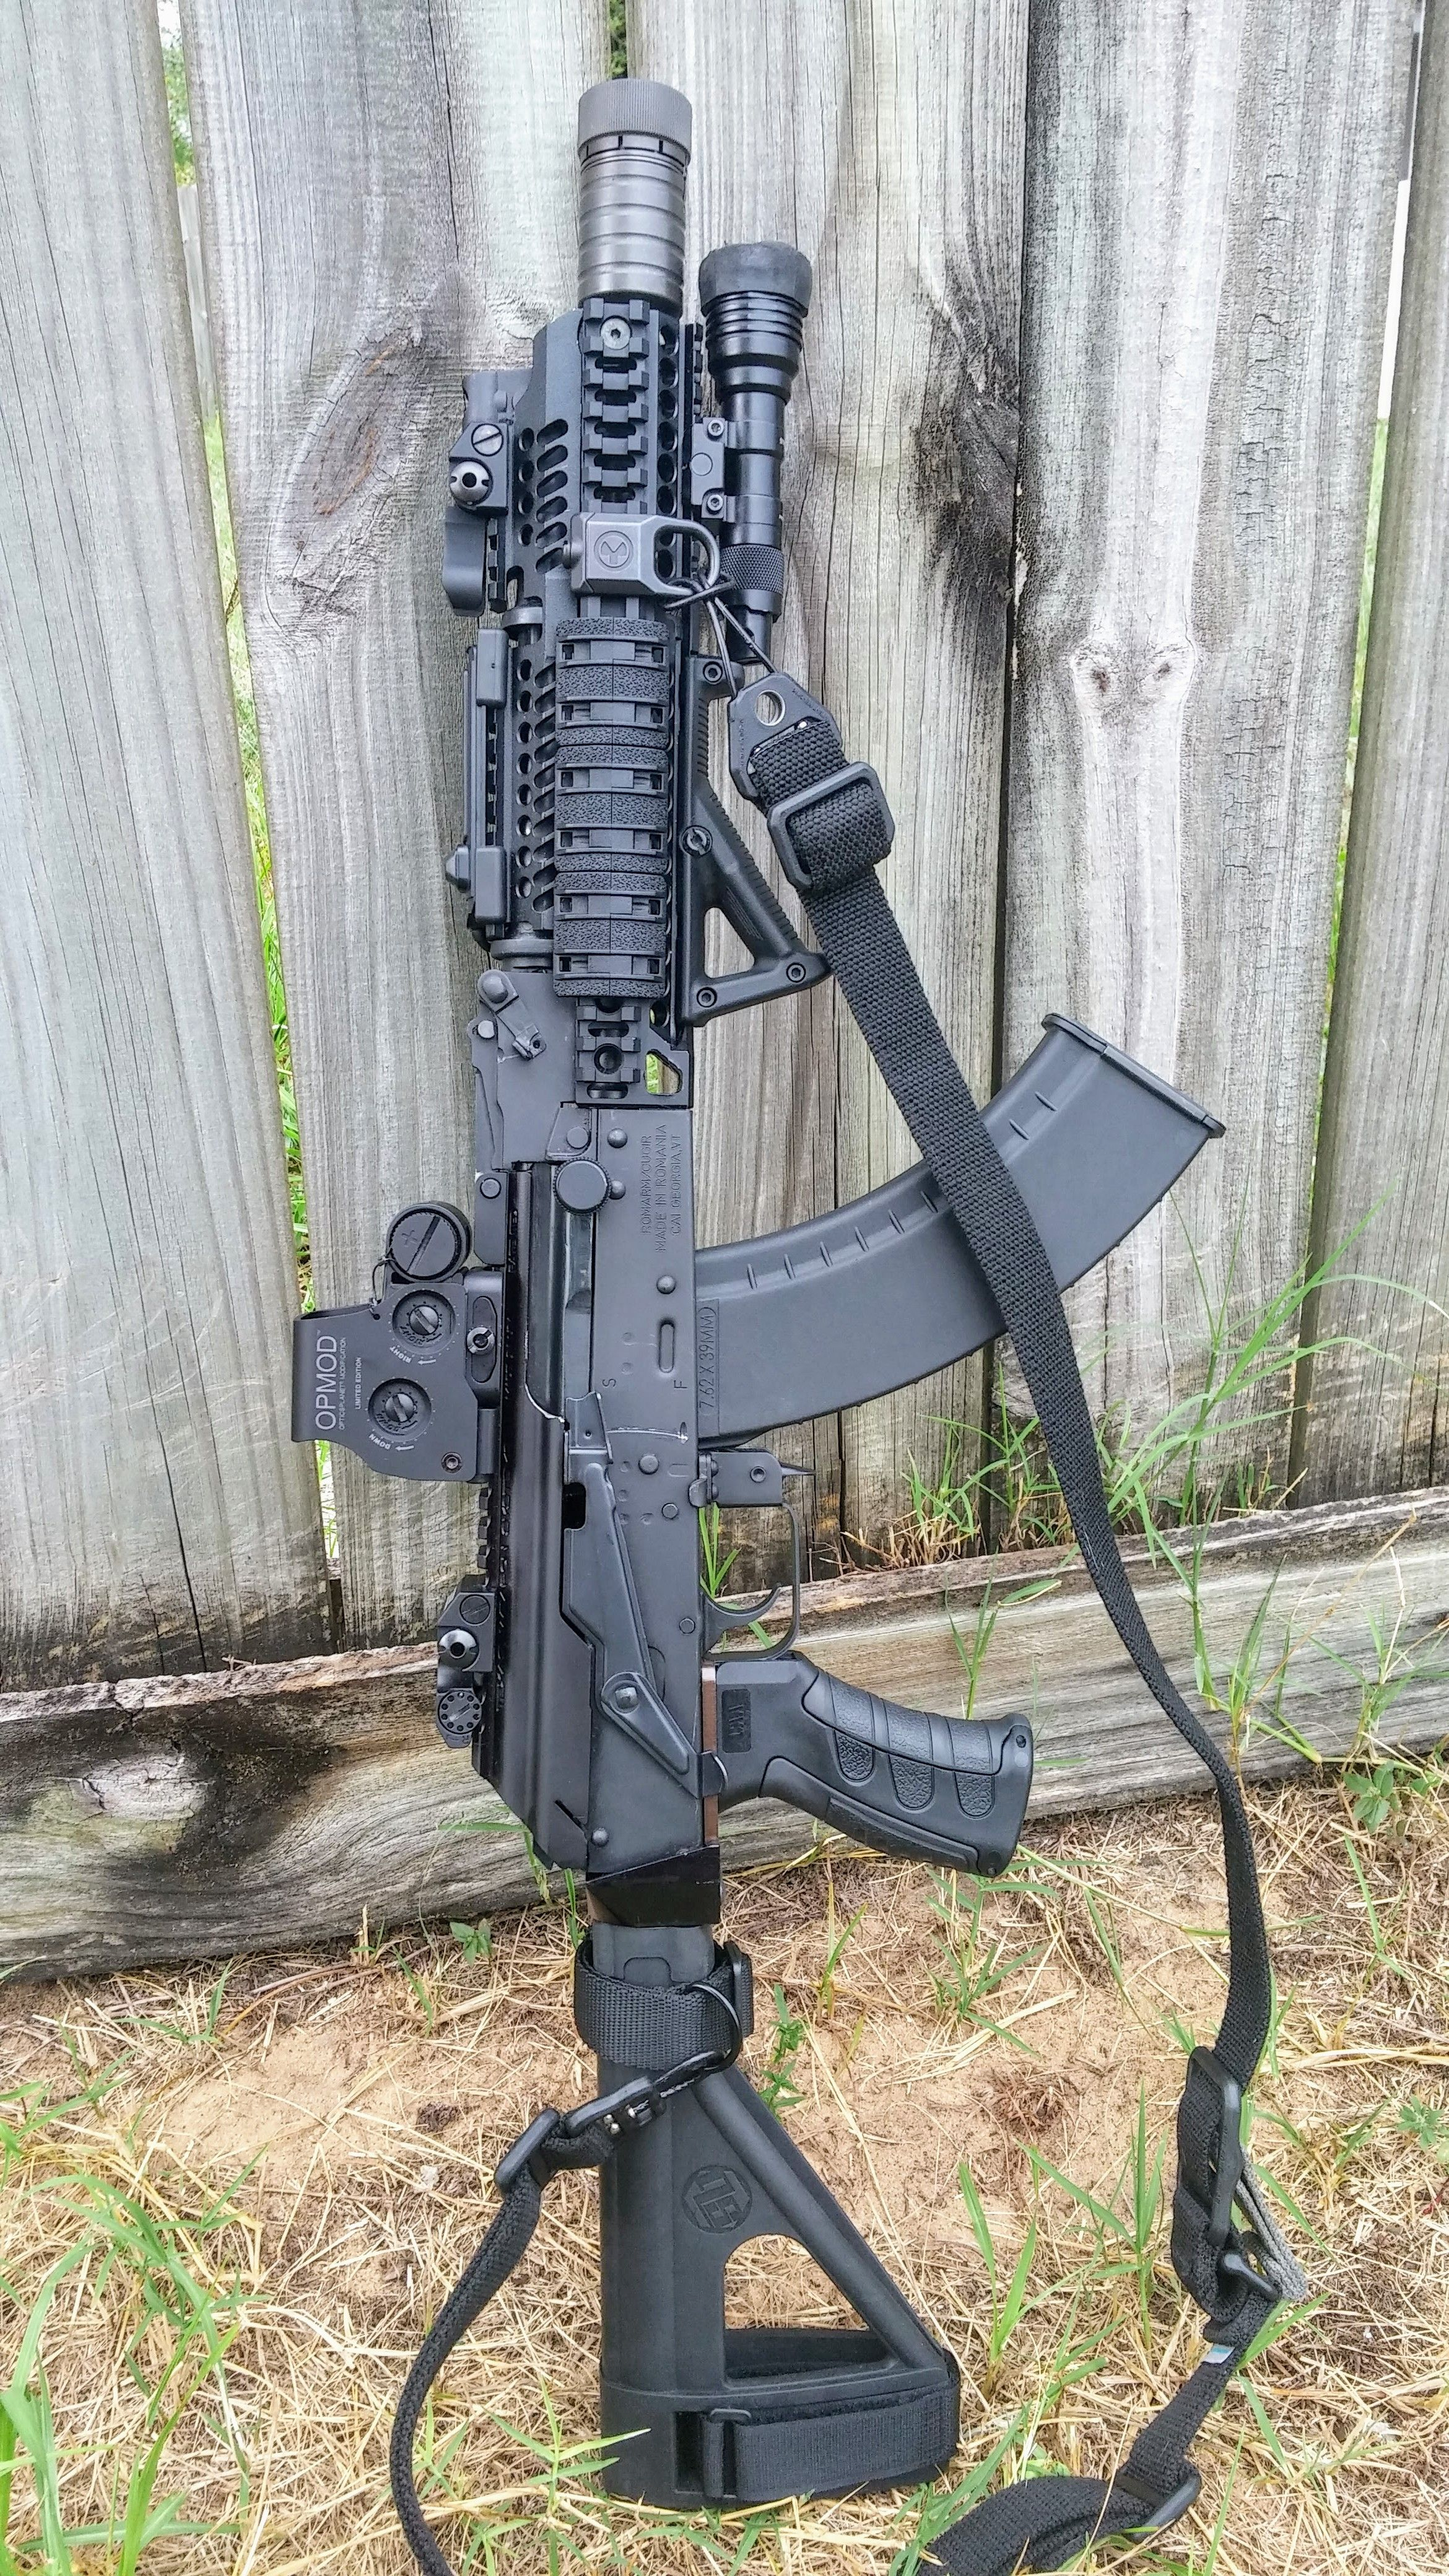Arma Real: (265, 65, 1237, 2491)
